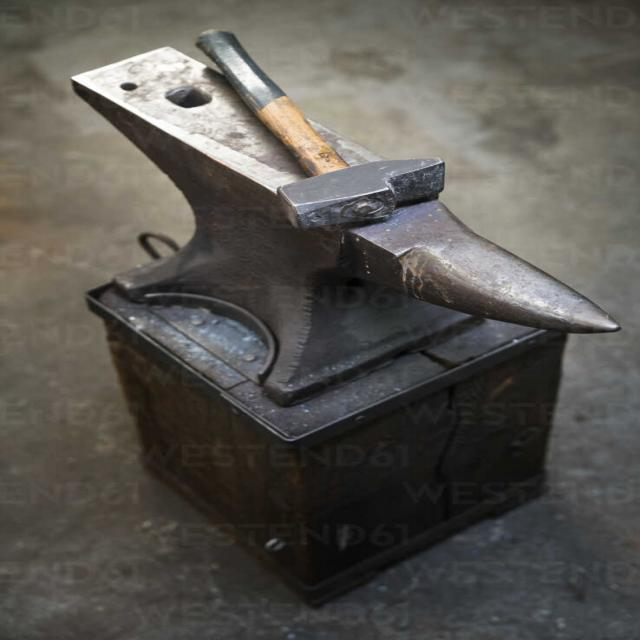hammer: (188, 21, 456, 242)
